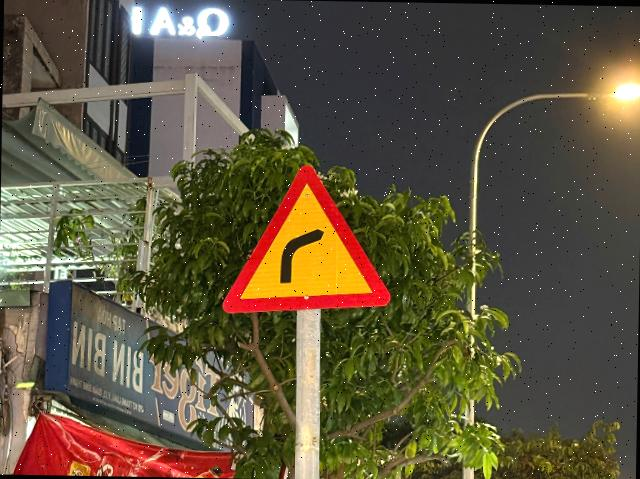cho-ngoat-nguy-hiem-ben-trai: (222, 162, 394, 317)
